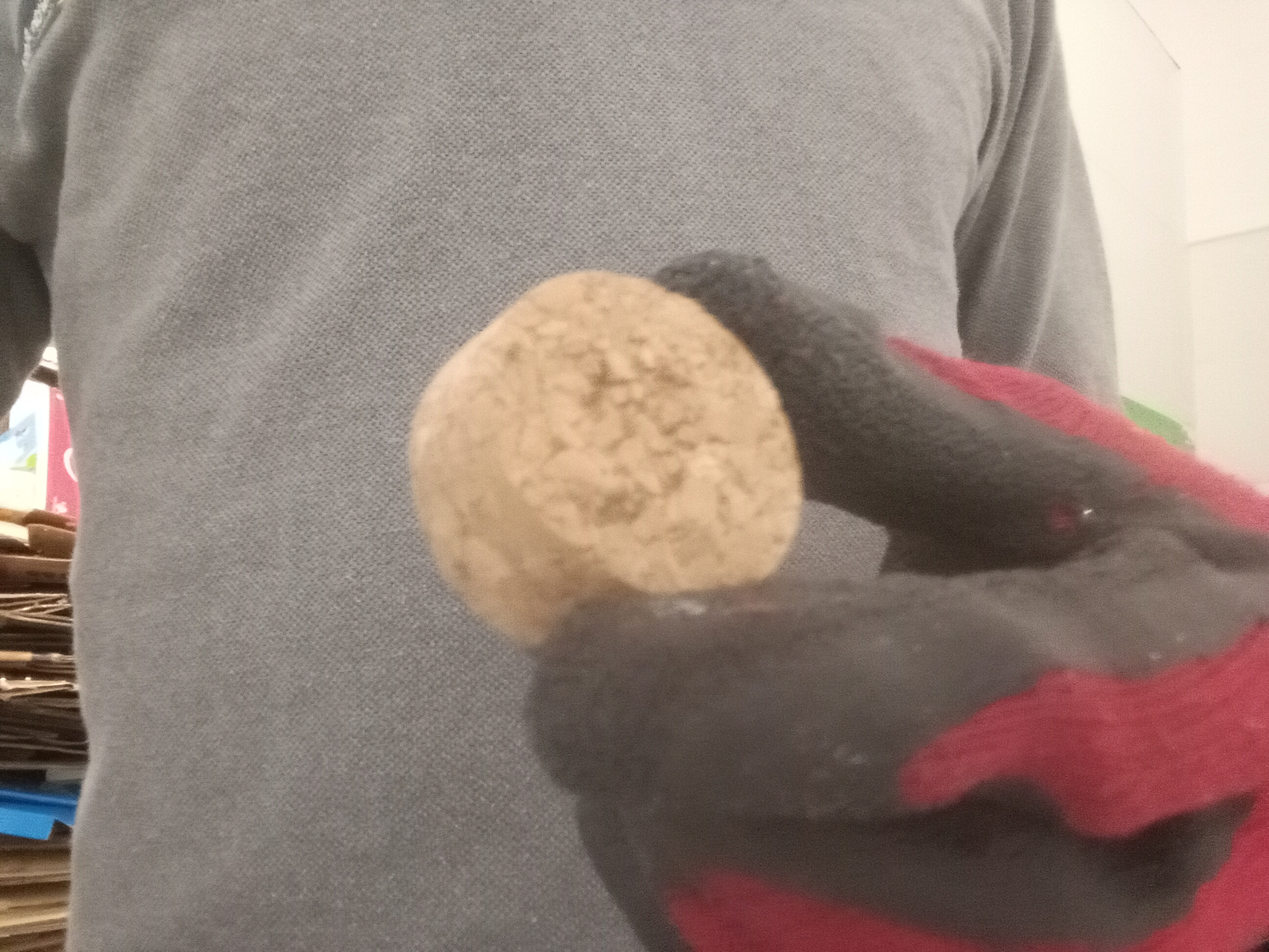Ordinario: (408, 270, 806, 647)
